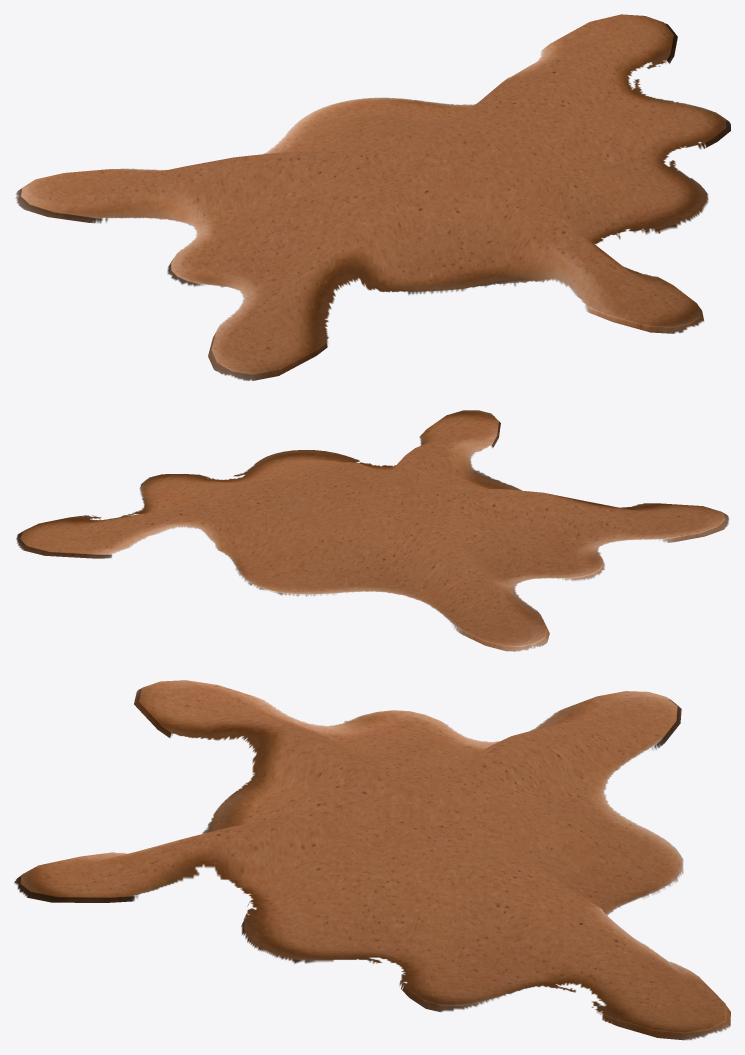
The model's file is dirt_2.glb.
The picture shows the model from 3 angles, top to bottom: view 1: azimuth 30°, elevation 25°; view 2: azimuth 150°, elevation 25°; view 3: azimuth 270°, elevation 25°; orthographic projection. The views are drawn at different scales.
Visible parts, largest first — view 1: dirt_2; view 2: dirt_2; view 3: dirt_2.
Boxes of the visible parts, left/top/right/bottom form: dirt_2: left=15, top=14, right=730, bottom=380; dirt_2: left=16, top=410, right=729, bottom=651; dirt_2: left=14, top=680, right=730, bottom=1040.
Size of the model in its own units: 0.8562 by 0.062 by 0.7241.
1 material, 1 textured.
